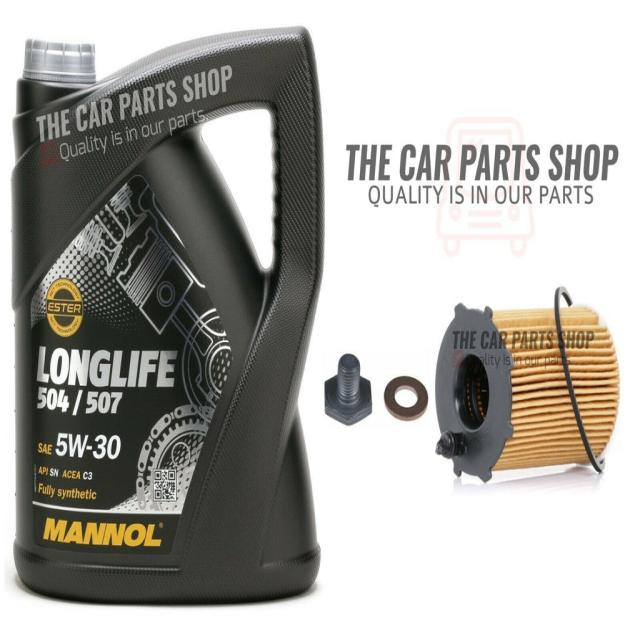motor_oil: (9, 12, 326, 610)
oil_filter: (436, 291, 622, 490)
